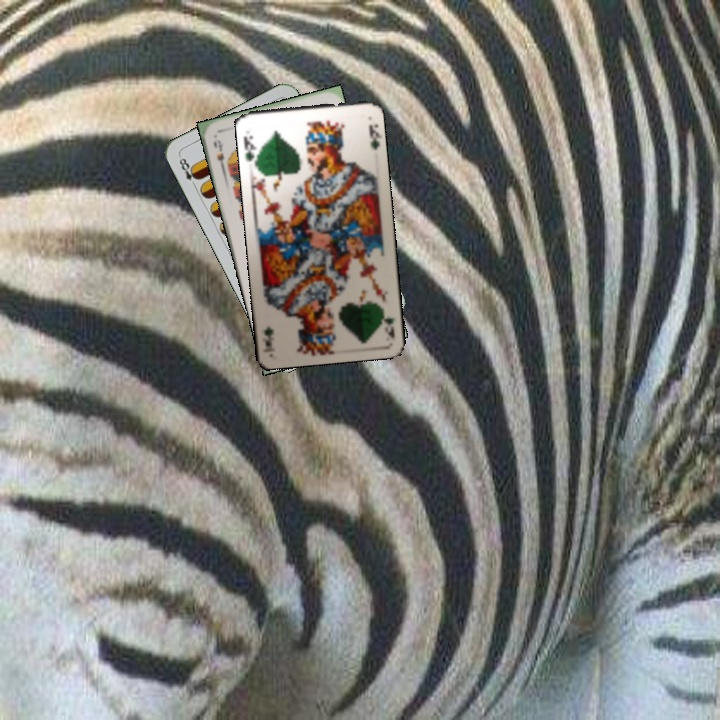E8: (175, 152, 202, 190)
GK: (377, 302, 398, 341), (240, 131, 261, 165)
S9: (209, 137, 228, 174)
